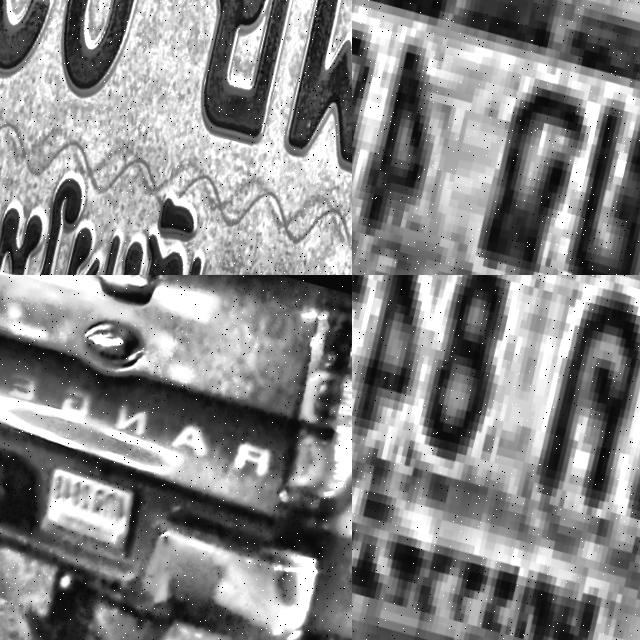license-plate: (352, 275, 640, 640), (0, 0, 352, 275), (352, 0, 640, 275), (27, 454, 149, 561)
